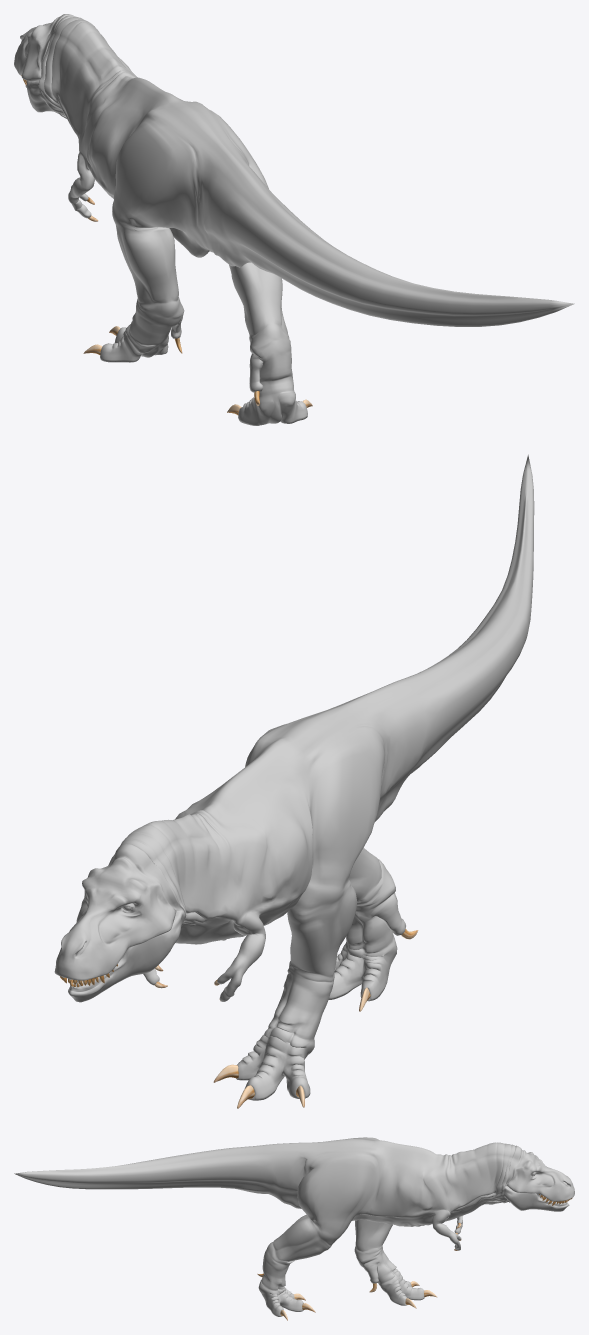
The model's file is t-rex.fbx.
3 views of the same model, one above another, from view 1: azimuth 30°, elevation 25°; view 2: azimuth 150°, elevation 25°; view 3: azimuth 270°, elevation 25° (orthographic). The views are drawn at different scales.
Visible parts, largest first — view 1: Skin, claws1; view 2: Skin, claws1; view 3: Skin, claws1.
Part boxes in pixels (bbox=[...]): Skin: bbox=[14, 14, 574, 425]; claws1: bbox=[83, 197, 312, 415]; Skin: bbox=[54, 454, 534, 1100]; claws1: bbox=[154, 929, 418, 1108]; Skin: bbox=[14, 1137, 574, 1316]; claws1: bbox=[257, 1223, 461, 1320].
Size of the model in its own units: 0.0967 by 0.1653 by 0.5167.
